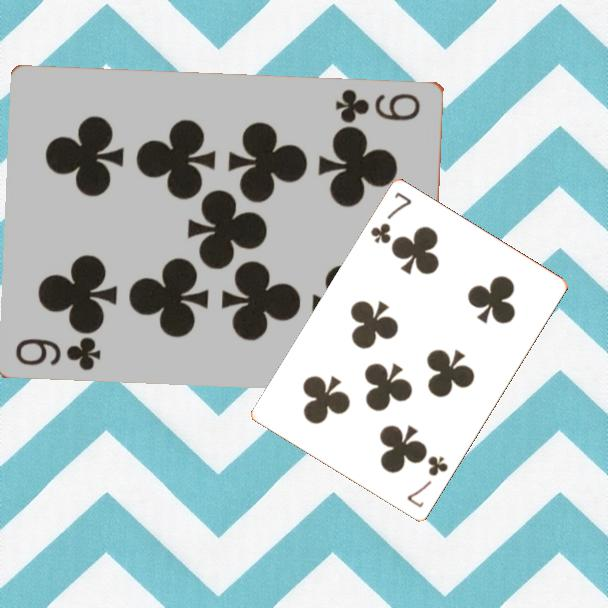c07: (403, 453, 451, 511), (367, 189, 415, 247)
c09: (12, 333, 104, 373), (332, 85, 424, 124)
